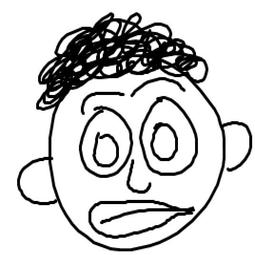ear: (10, 151, 59, 211), (218, 119, 254, 174)
eye: (139, 94, 199, 178), (75, 103, 134, 182)
eyebrow: (130, 77, 187, 100), (78, 85, 126, 112)
nose: (122, 157, 155, 196)
open_mouth: (85, 197, 195, 240)
